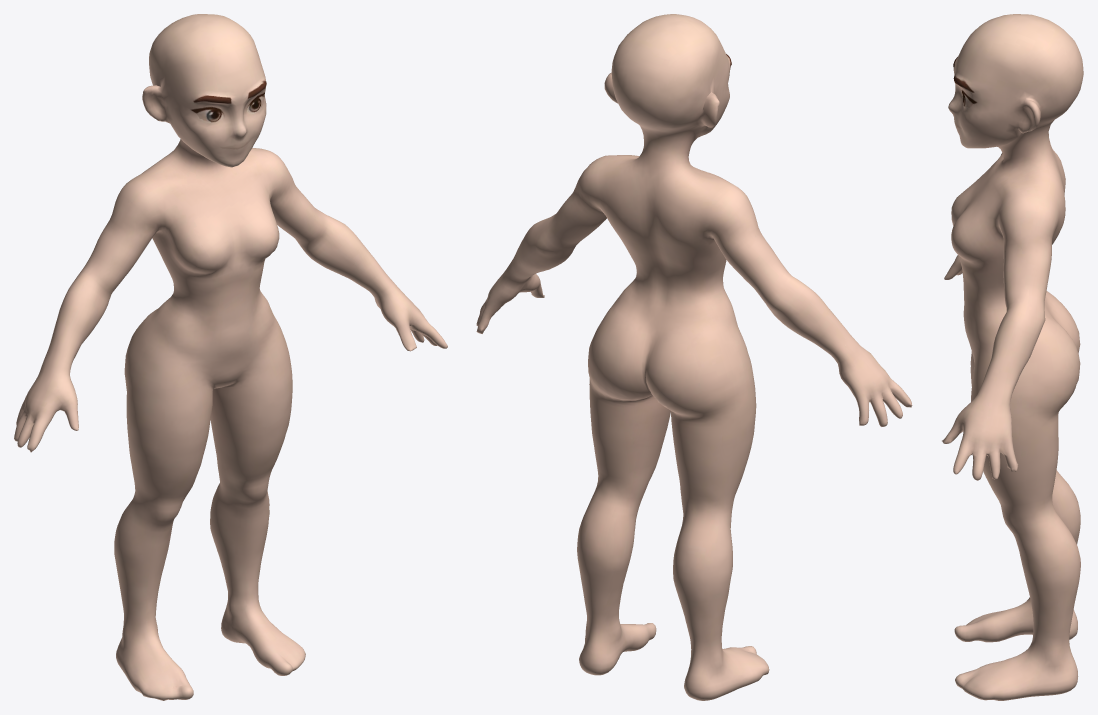
The model's file is female.glb.
3 renders of one model, left to right at view 1: azimuth 30°, elevation 25°; view 2: azimuth 150°, elevation 25°; view 3: azimuth 270°, elevation 25°, orthographic.
Visible parts, largest first — view 1: female; view 2: female; view 3: female.
Boxes of the visible parts, box(x1,y1,x2,y2) form: female: box(14, 14, 447, 700); female: box(476, 14, 912, 700); female: box(942, 14, 1083, 700).
Bounding box in the file's own units: 1.22 × 1.8 × 0.3597.
Materials: 1 (1 with a texture image).
